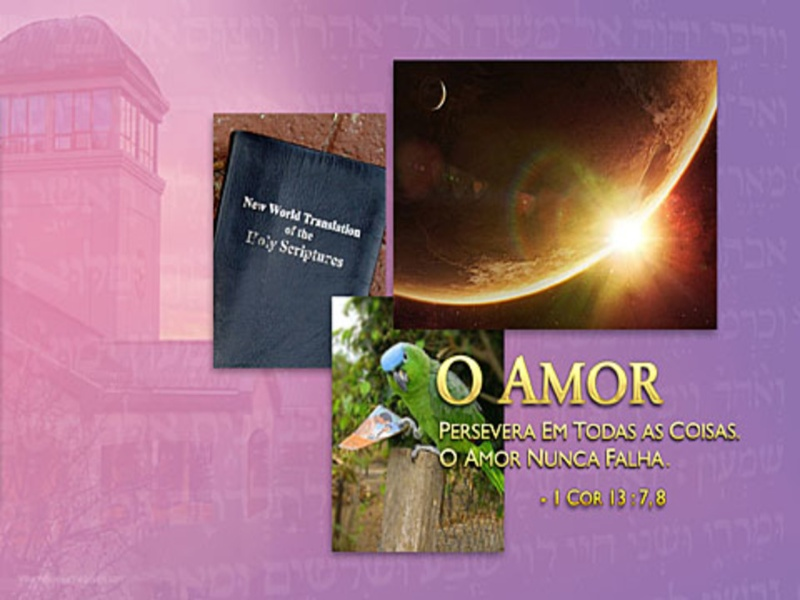book: (214, 110, 383, 392)
